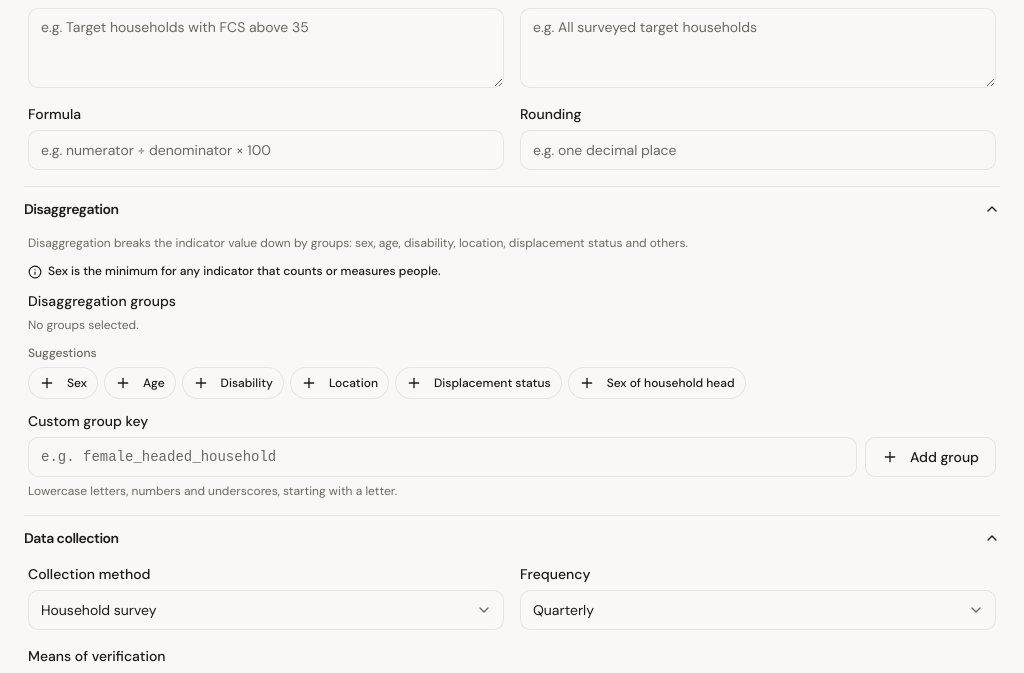
IndicatorForm › adds and removes disaggregation chips and rejects invalid keys
The image size is (1024, 673).
(page scrolled)
Expected: the text "Sex is the minimum for any indicator that counts or measures people." is shown, [28, 263, 440, 279]
Click the button with aria-label "Add Sex" at (63, 383), box [28, 367, 98, 399]
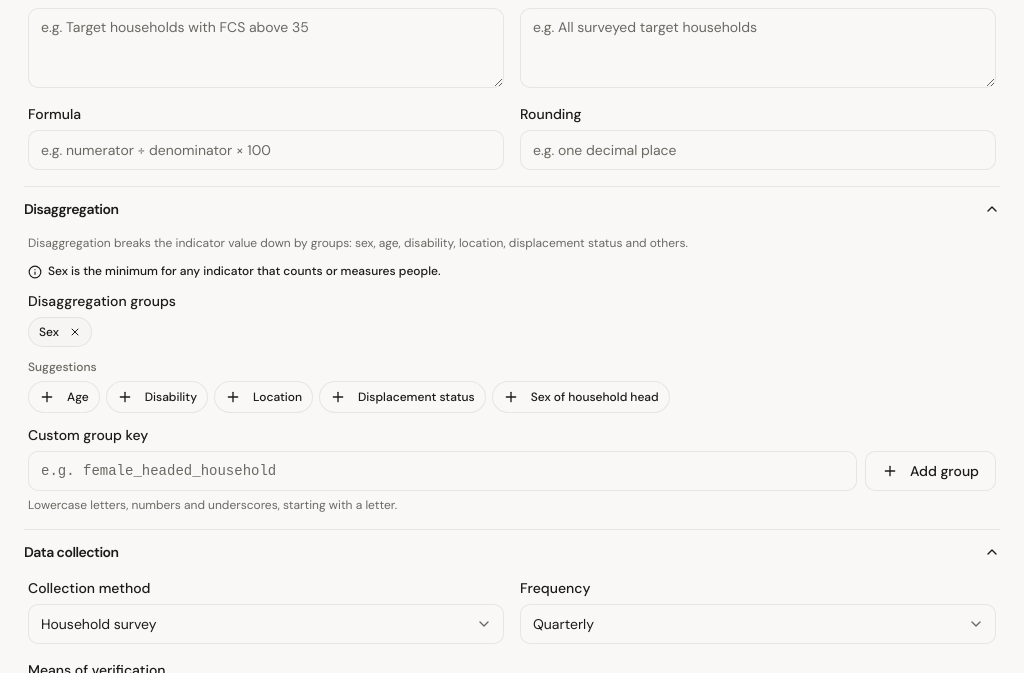
Result: the button named "Remove Sex" is shown at [63, 320, 87, 344]
Type "Female Head" into the field labelled "Custom group key" at (442, 471), box [28, 451, 857, 491]
Click the button "Add group" at (930, 471), box [865, 451, 996, 491]
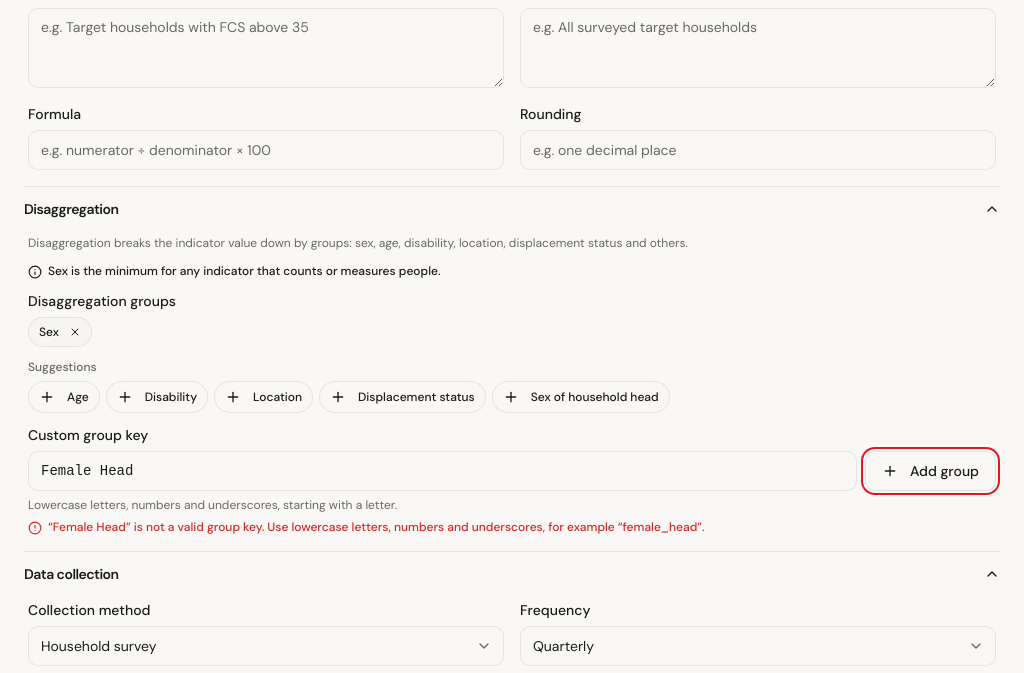
Replace the text in the field labelled "Custom group key" with "female_head" at (442, 471), box [28, 451, 857, 491]
Then press Enter
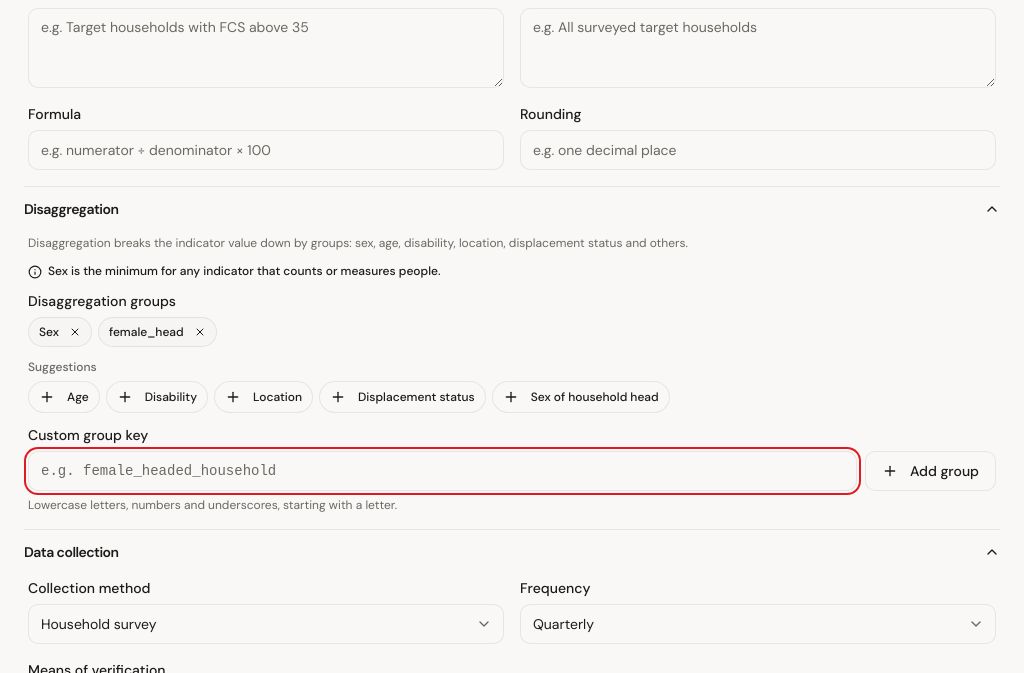
Result: the button named "Remove female_head" is shown at [188, 320, 212, 344]
Type "sex" into the field labelled "Custom group key" at (442, 471), box [28, 451, 857, 491]
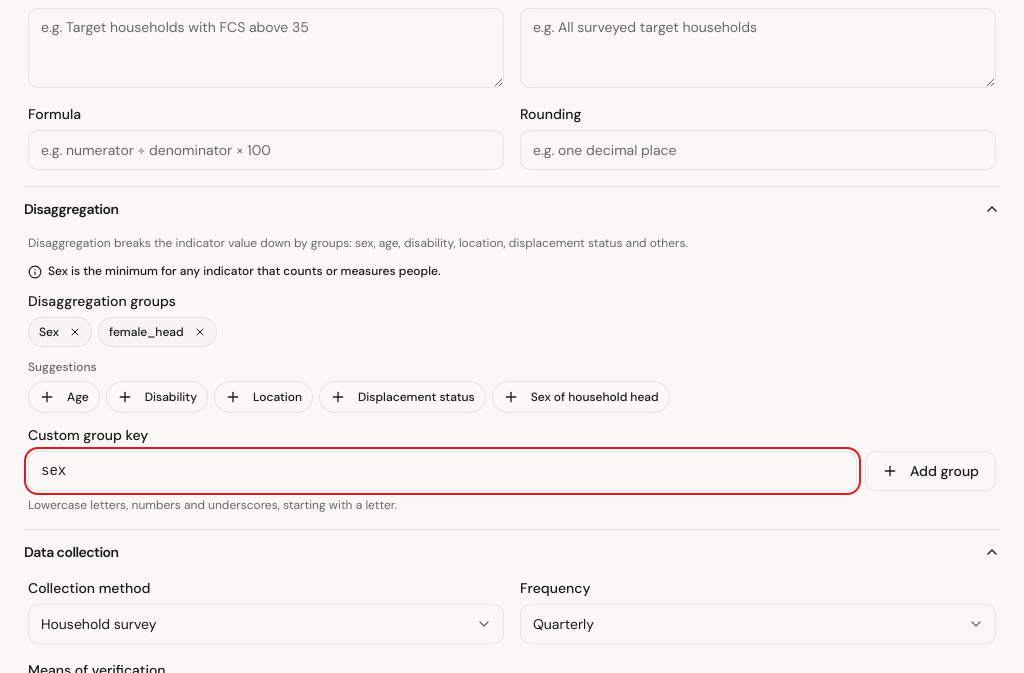
Click the button "Add group" at (930, 471), box [865, 451, 996, 491]
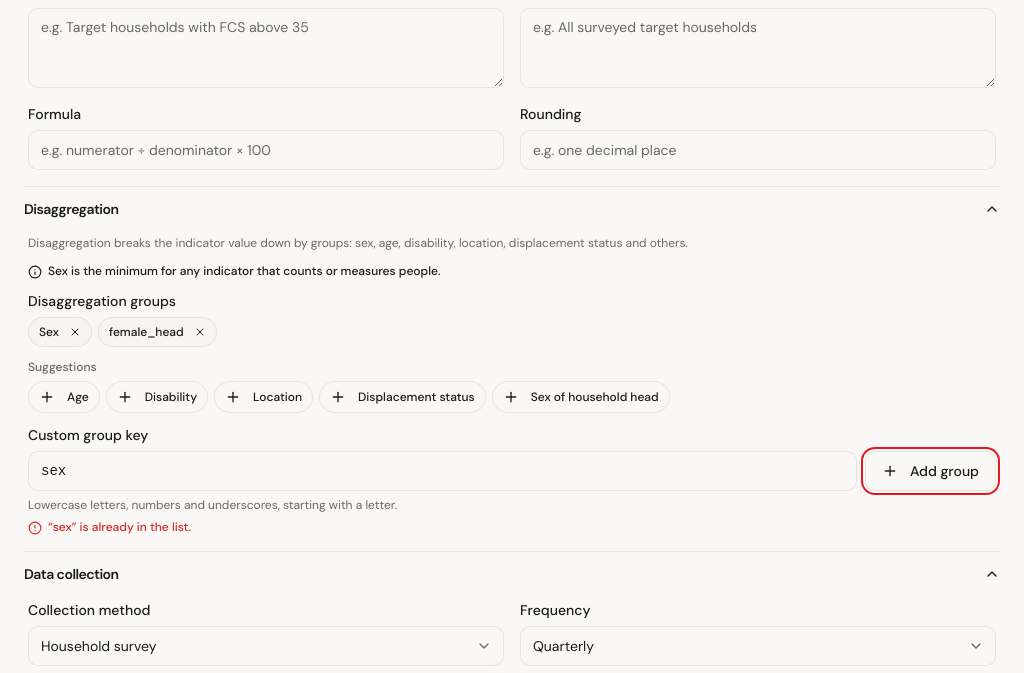
Result: the text "“sex” is already in the list." is shown at [28, 519, 191, 535]
Click the button named "Remove Sex" at (75, 332), box [63, 320, 87, 344]
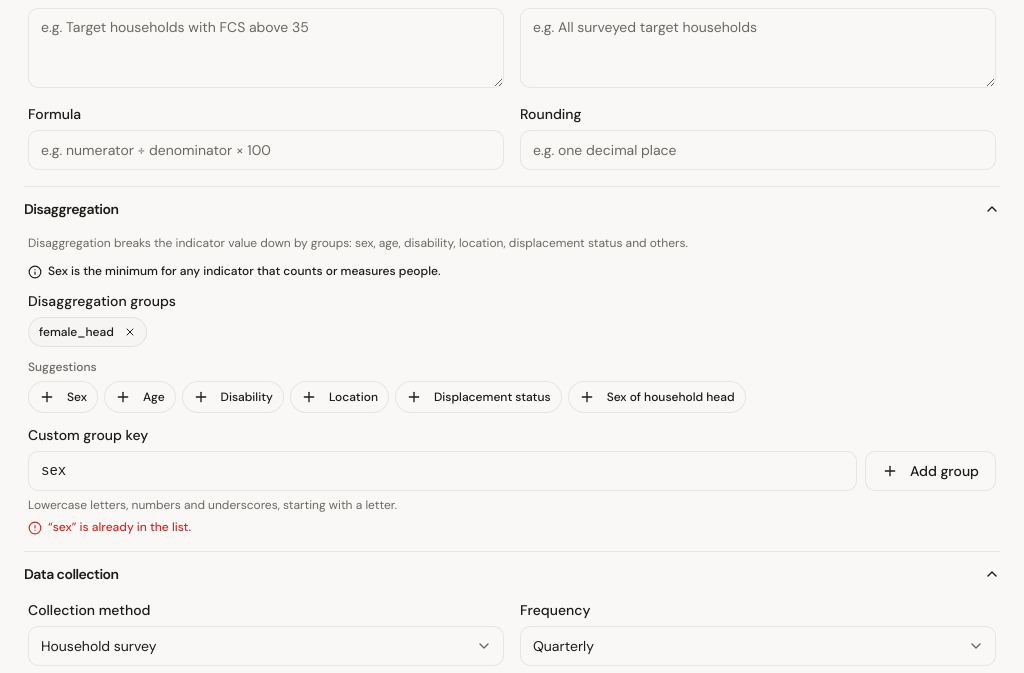
Result: the button with aria-label "Add Sex" is shown at [28, 381, 98, 413]
